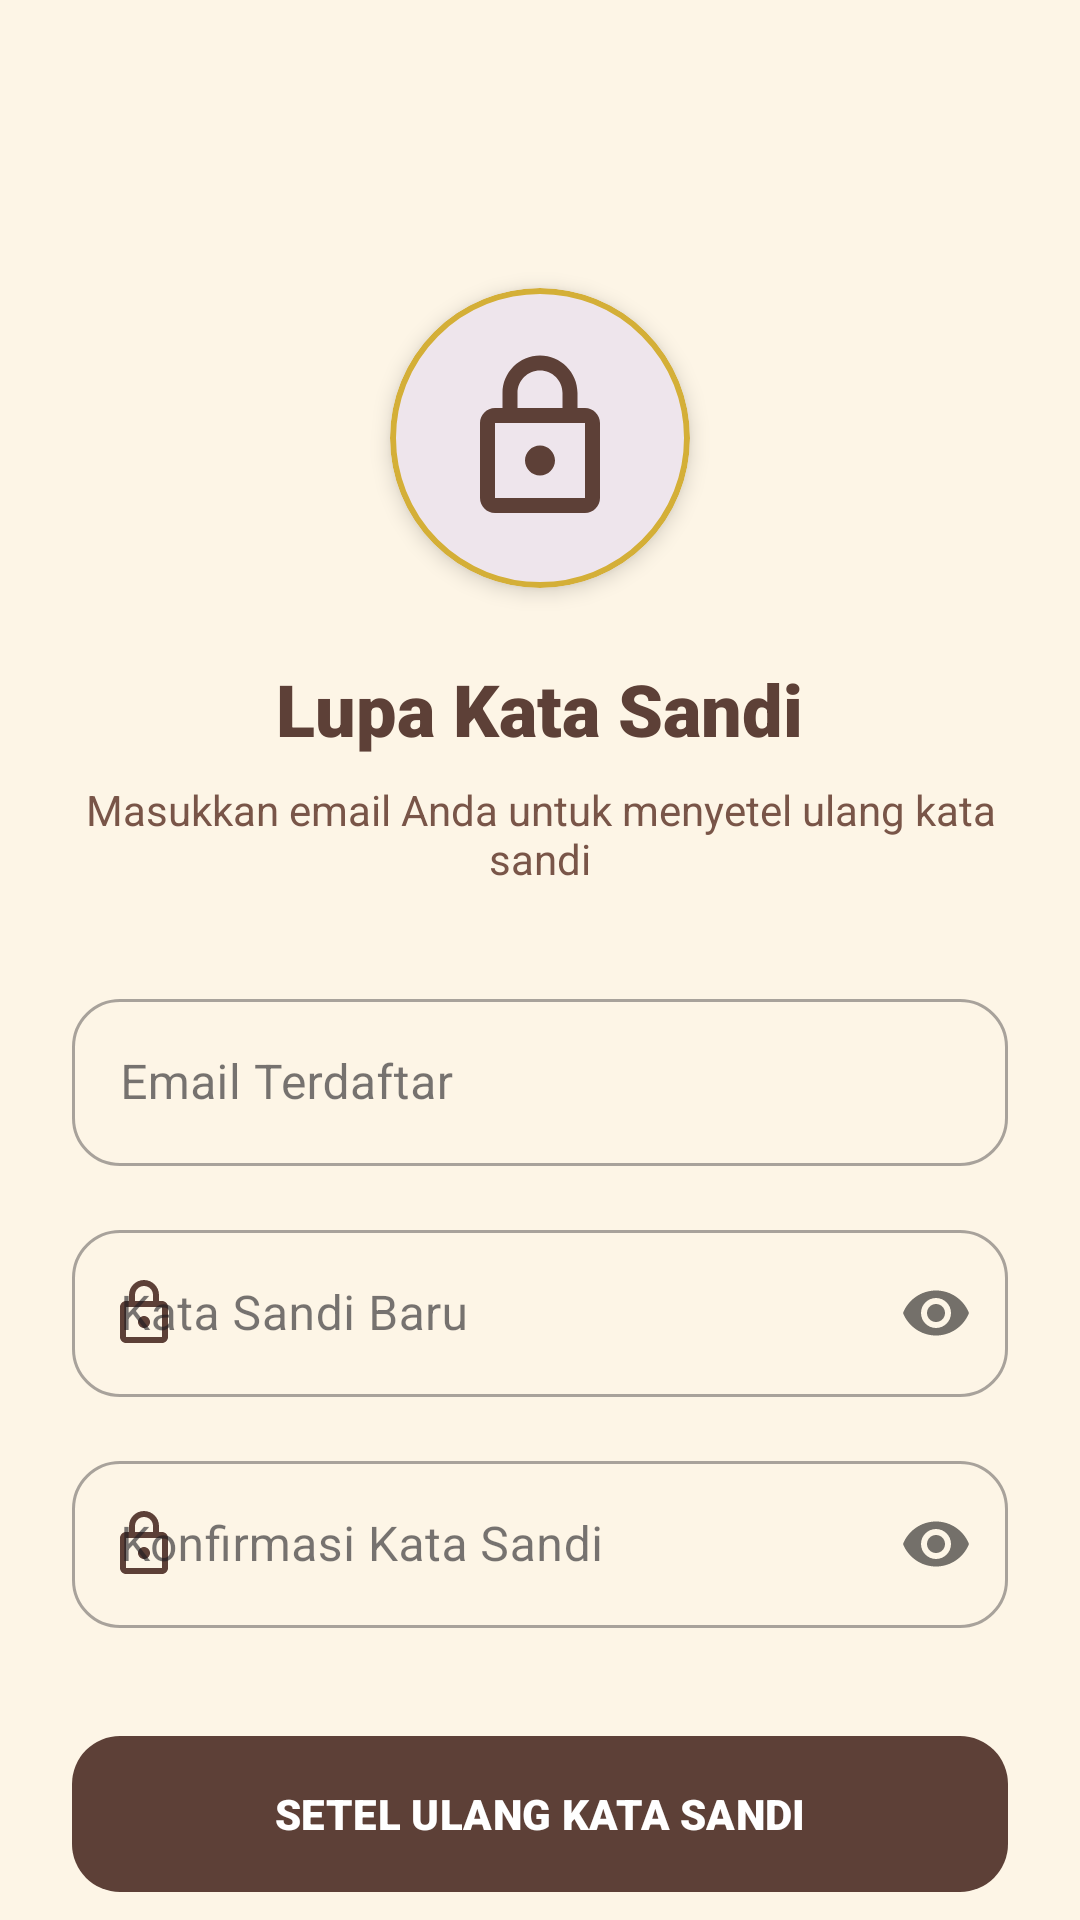

Where icons sit on this 1080px×1920px app screen, as [x1, y1, x2, y2]:
lock: [390, 288, 690, 588]
